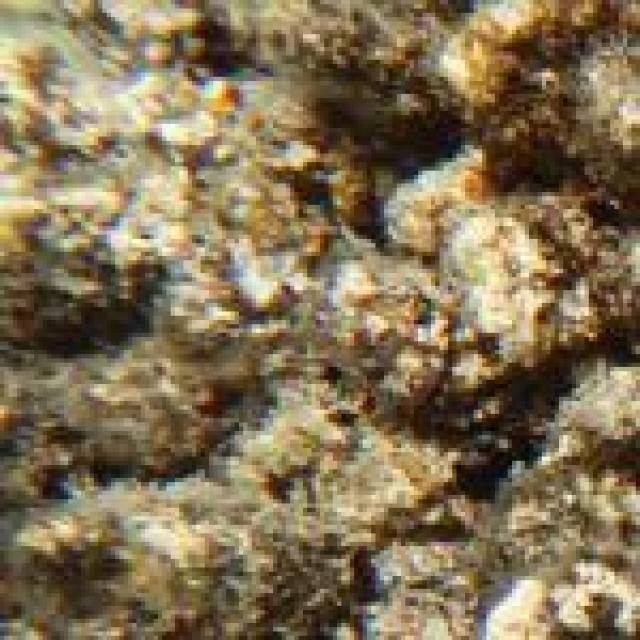Bleached Coral: (378, 153, 640, 335)
